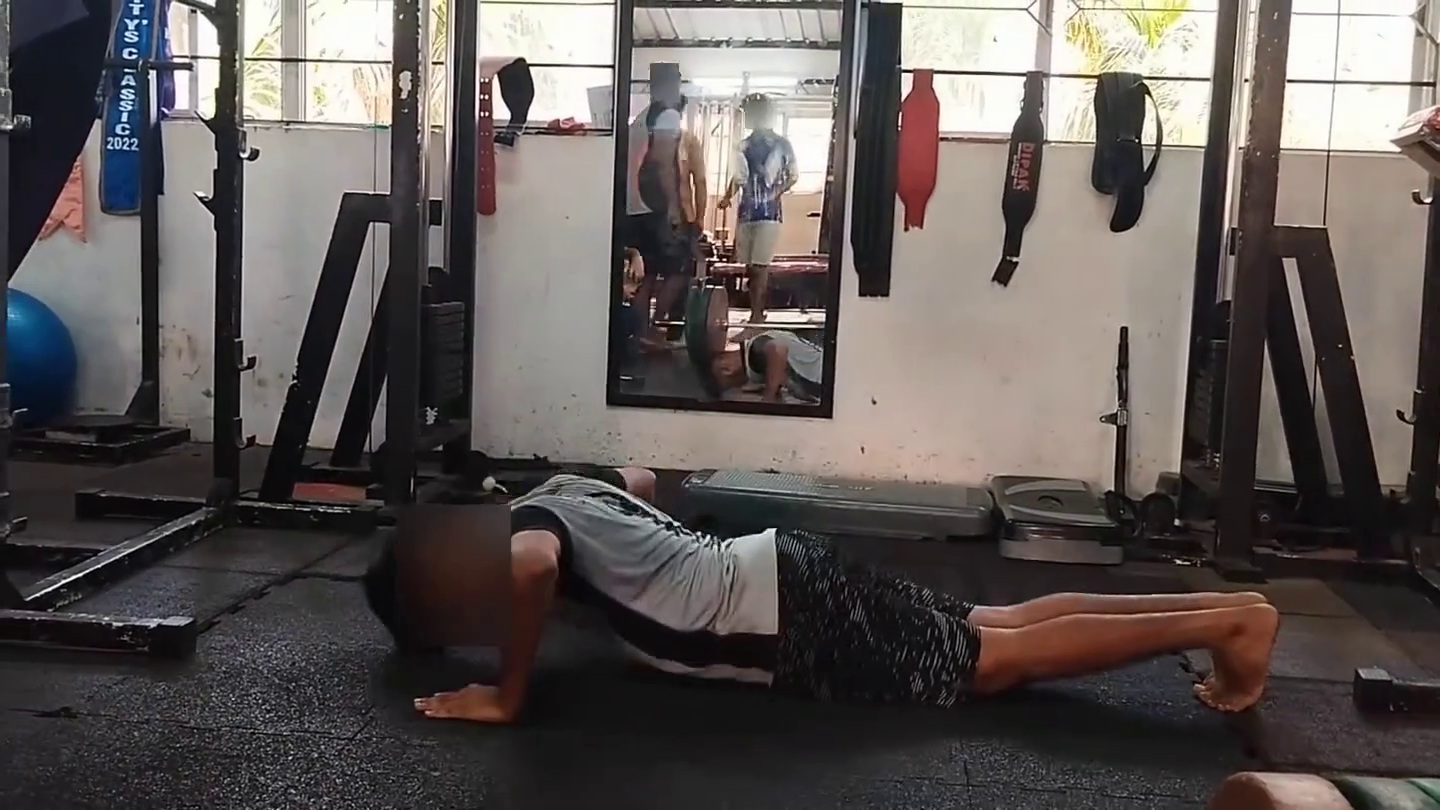push_up: (401, 438, 1320, 784)
